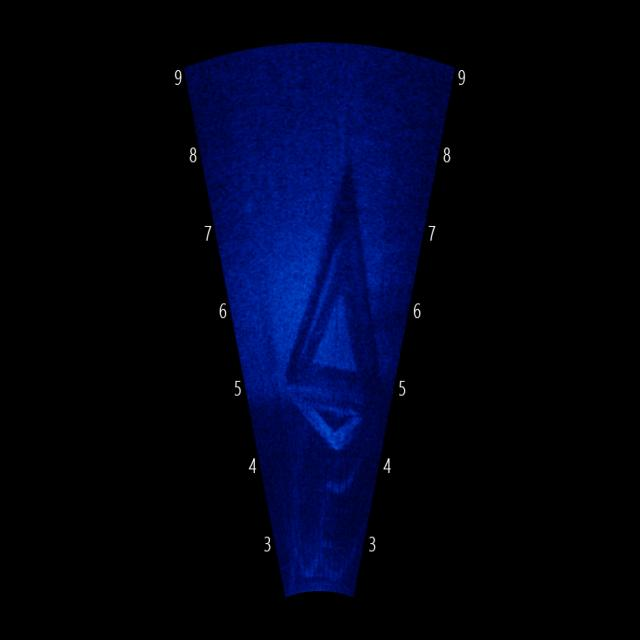triangle: (284, 226, 387, 423)
